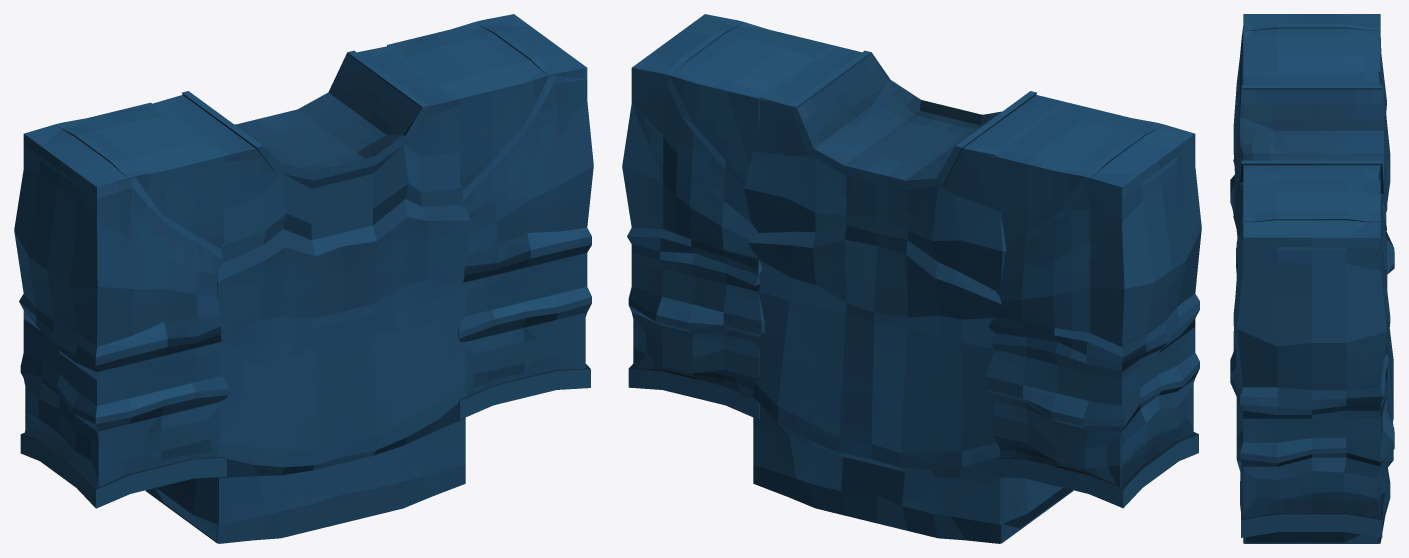
The picture shows the model from 3 angles, left to right: view 1: azimuth 30°, elevation 25°; view 2: azimuth 150°, elevation 25°; view 3: azimuth 270°, elevation 25°; orthographic projection. The views are drawn at different scales.
Visible parts, largest first — view 1: body, left_arm, right_arm, right_arm_flat, left_arm_flat, body_flat; view 2: body, left_arm, right_arm, body_flat, right_arm_flat, left_arm_flat; view 3: right_arm, body, left_arm, body_flat, right_arm_flat, left_arm_flat.
Boxes of the visible parts, x1,y1,x2,y2 form: body: (148,45,470,543); left_arm: (14,104,228,508); right_arm: (395,14,593,419); right_arm_flat: (387,14,585,396); left_arm_flat: (25,102,218,487); body_flat: (145,95,416,543); body: (744,45,1072,543); left_arm: (985,102,1201,508); right_arm: (622,14,831,419); body_flat: (759,60,1073,543); right_arm_flat: (633,14,773,397); left_arm_flat: (995,118,1193,487); right_arm: (1230,179,1394,537); body: (1233,72,1393,543); left_arm: (1230,14,1394,288); body_flat: (1245,73,1379,543); right_arm_flat: (1243,179,1380,518); left_arm_flat: (1243,14,1380,84).
Bounding box in the file's own units: 1.07 × 0.7906 × 0.3145.
Materials: 1 (1 with a texture image).
